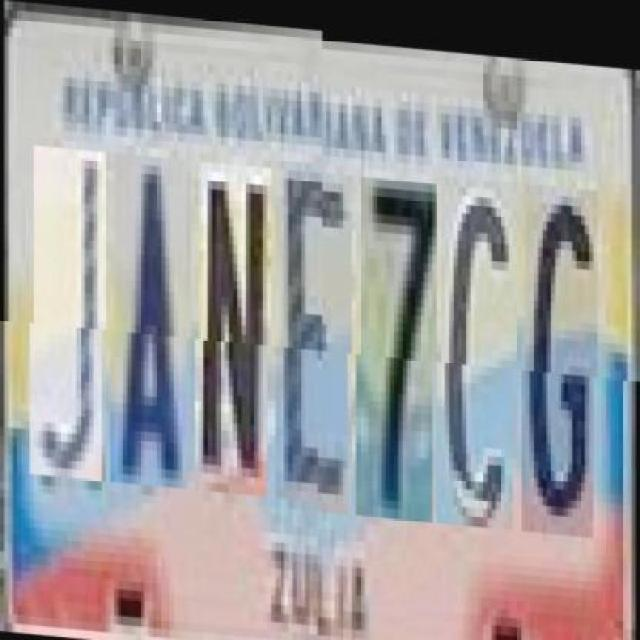7: (360, 169, 437, 513)
a: (114, 159, 191, 495)
c: (440, 167, 518, 519)
e: (280, 164, 352, 507)
g: (525, 173, 598, 525)
j: (34, 154, 106, 488)
n: (199, 167, 272, 501)
